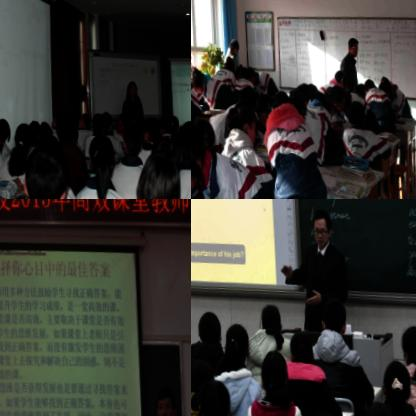head: (23, 139, 68, 199), (137, 142, 183, 199), (87, 128, 116, 189), (379, 349, 411, 401), (260, 346, 290, 400), (196, 376, 235, 416), (228, 100, 258, 149), (191, 116, 209, 197), (319, 292, 350, 338), (222, 319, 250, 364), (153, 130, 181, 174), (195, 307, 225, 346), (191, 355, 217, 400), (257, 296, 284, 339), (265, 86, 293, 127), (254, 86, 277, 132), (289, 324, 314, 366), (309, 204, 333, 245), (122, 117, 144, 158), (359, 393, 398, 416), (153, 381, 177, 416), (344, 92, 367, 128), (13, 118, 34, 157), (283, 85, 305, 122), (235, 80, 258, 115), (56, 109, 76, 144), (302, 402, 352, 416), (308, 81, 330, 112), (141, 111, 161, 144), (402, 318, 416, 364), (175, 123, 191, 162), (330, 81, 348, 111), (191, 63, 208, 94), (159, 110, 174, 138), (99, 105, 114, 131), (297, 77, 312, 103), (91, 108, 105, 134), (377, 72, 393, 94), (168, 108, 181, 134), (222, 50, 235, 75), (0, 116, 12, 143), (237, 62, 251, 85), (346, 30, 360, 53), (362, 71, 377, 92), (244, 61, 258, 83), (340, 68, 353, 91), (227, 32, 240, 54), (115, 108, 128, 127), (354, 76, 367, 95), (77, 110, 89, 128), (184, 113, 191, 140), (127, 77, 137, 95), (334, 64, 344, 81)
